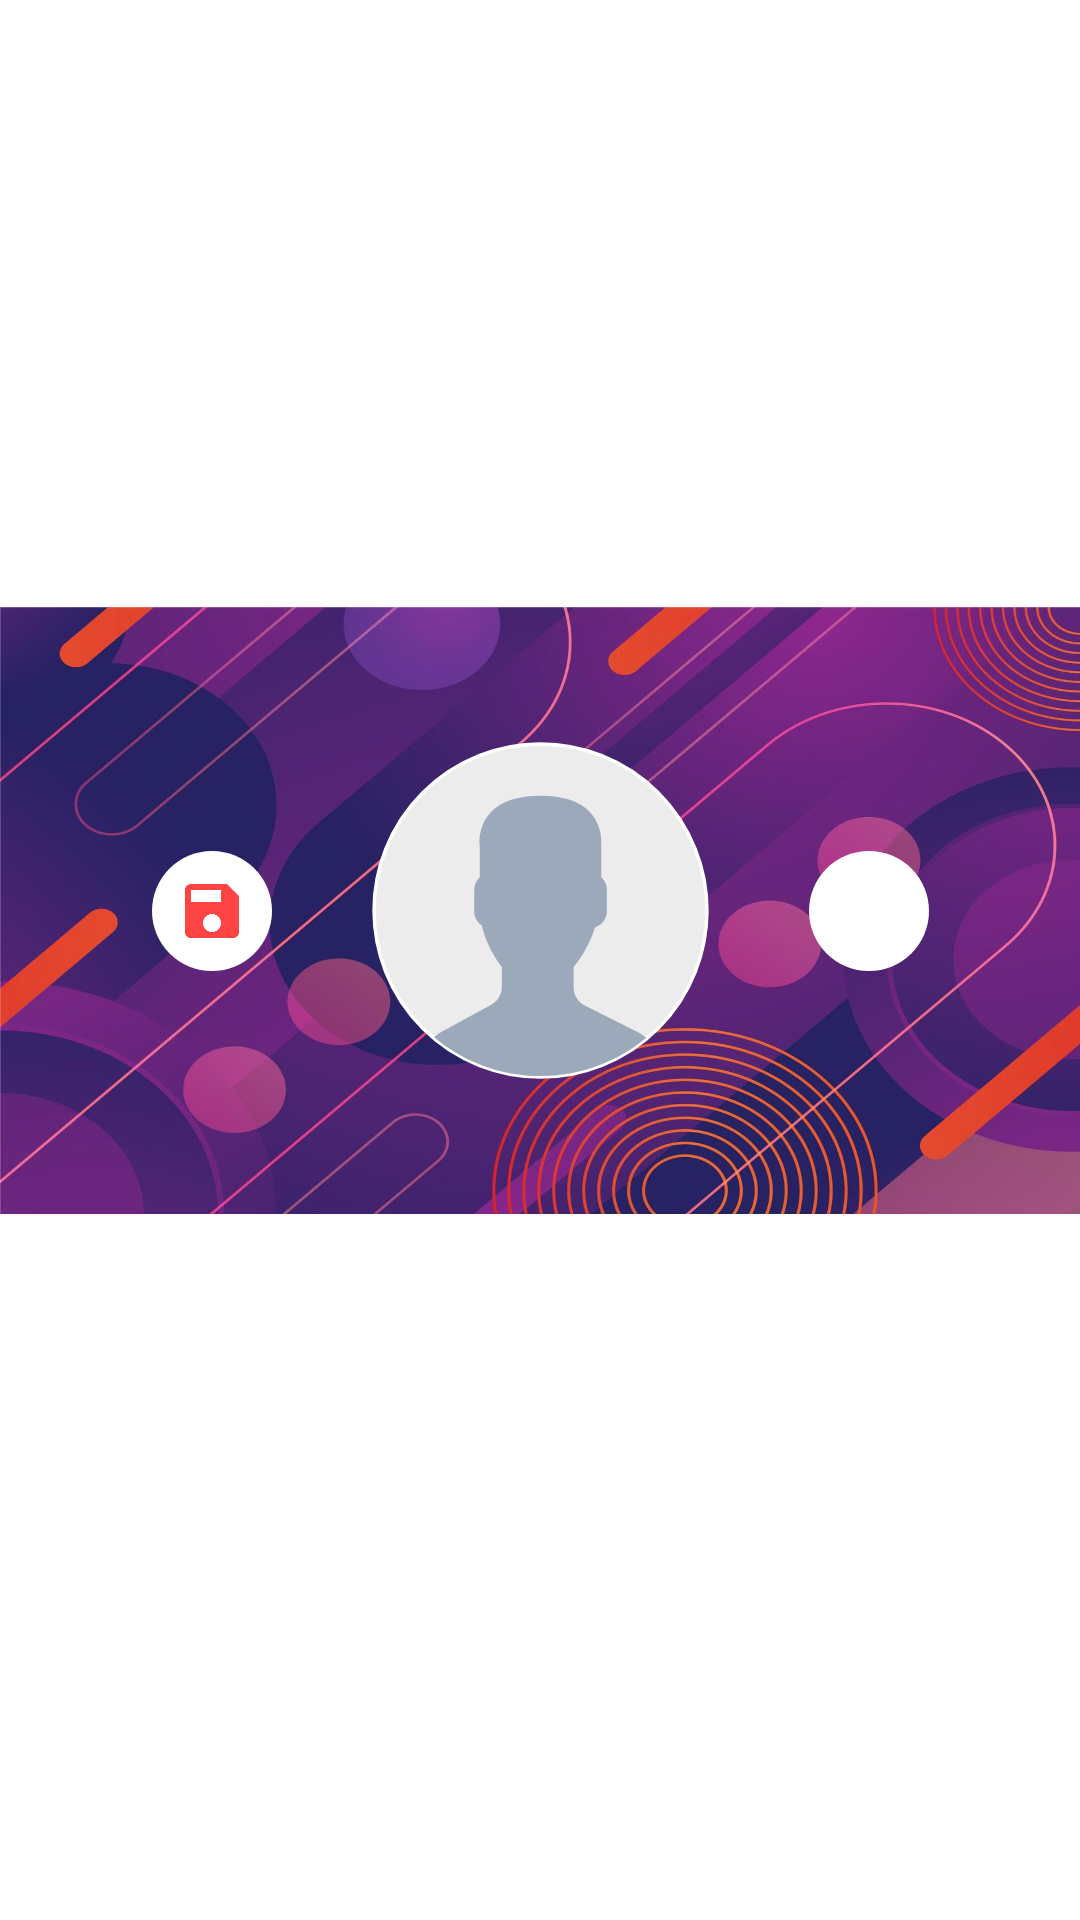

Screen size 1080 × 1920. Icon name, then its box in pixels as (x1, y1, x2, y2):
save: (152, 851, 272, 971)
